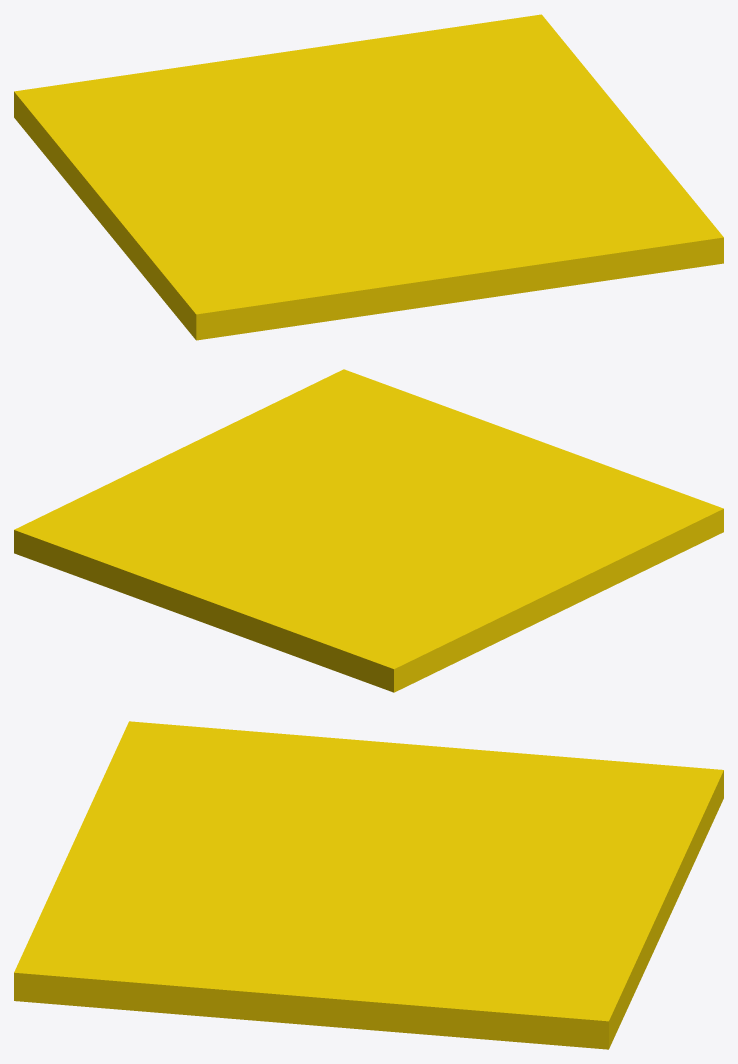
File: sticky-note--2.gltf
The picture shows the model from 3 angles, top to bottom: view 1: azimuth 30°, elevation 25°; view 2: azimuth 150°, elevation 25°; view 3: azimuth 270°, elevation 25°; orthographic projection. The views are drawn at different scales.
Visible parts, largest first — view 1: Stickynote2; view 2: Stickynote2; view 3: Stickynote2.
Boxes of the visible parts, bbox=[...] form: Stickynote2: bbox=[14, 14, 723, 340]; Stickynote2: bbox=[14, 369, 723, 692]; Stickynote2: bbox=[14, 721, 723, 1049].
Size of the model in its own units: 0.1051 by 0.00462 by 0.1051.
Materials: 1 (1 with a texture image).
